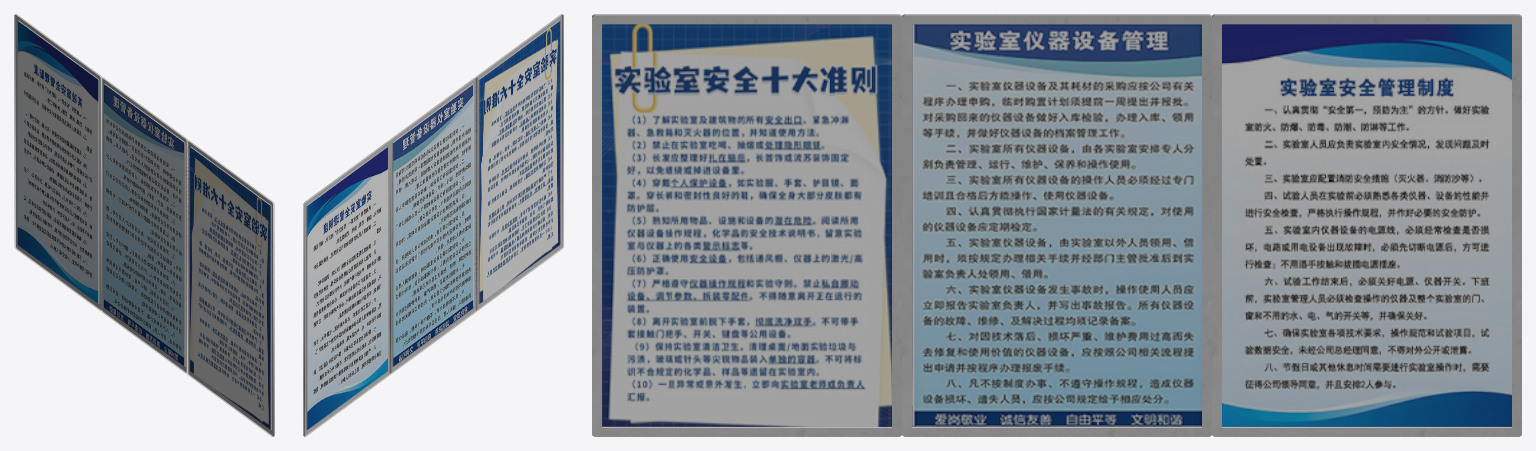
Rendered from SM_安全标语.fbx.
3 renders of one model, left to right at view 1: azimuth 30°, elevation 25°; view 2: azimuth 150°, elevation 25°; view 3: azimuth 270°, elevation 25°, orthographic. The views are drawn at different scales.
Visible parts, largest first — view 1: SM_安全标语; view 2: SM_安全标语; view 3: SM_安全标语.
Part boxes in pixels (x1,y1,x2,y2): SM_安全标语: (14,14,274,436); SM_安全标语: (303,14,563,436); SM_安全标语: (592,14,1521,436).
Size of the model in its own units: 6.45 by 900 by 1799.
